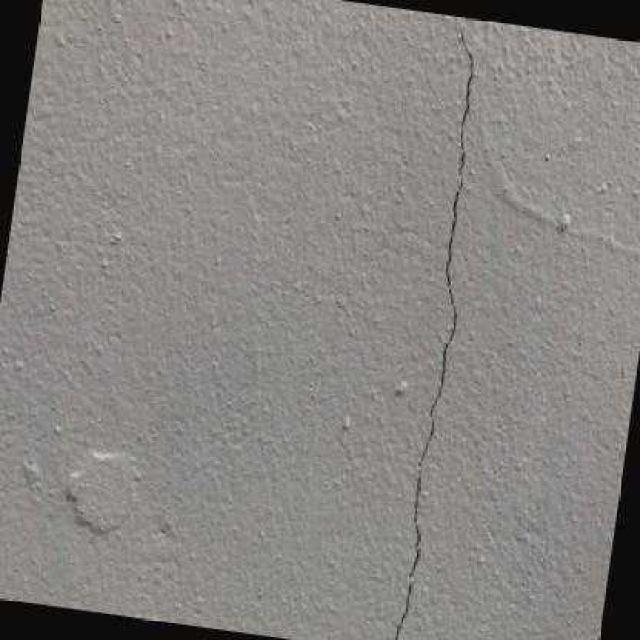D00: (409, 17, 472, 576), (394, 579, 412, 640)
